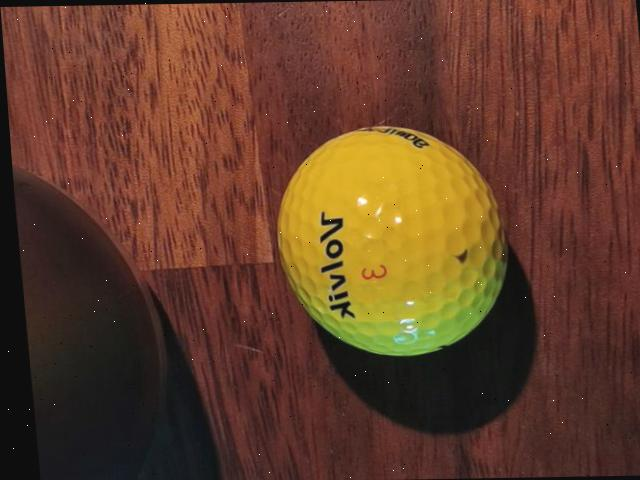Ball: (265, 123, 513, 357)
Volvik: (313, 209, 352, 319)
